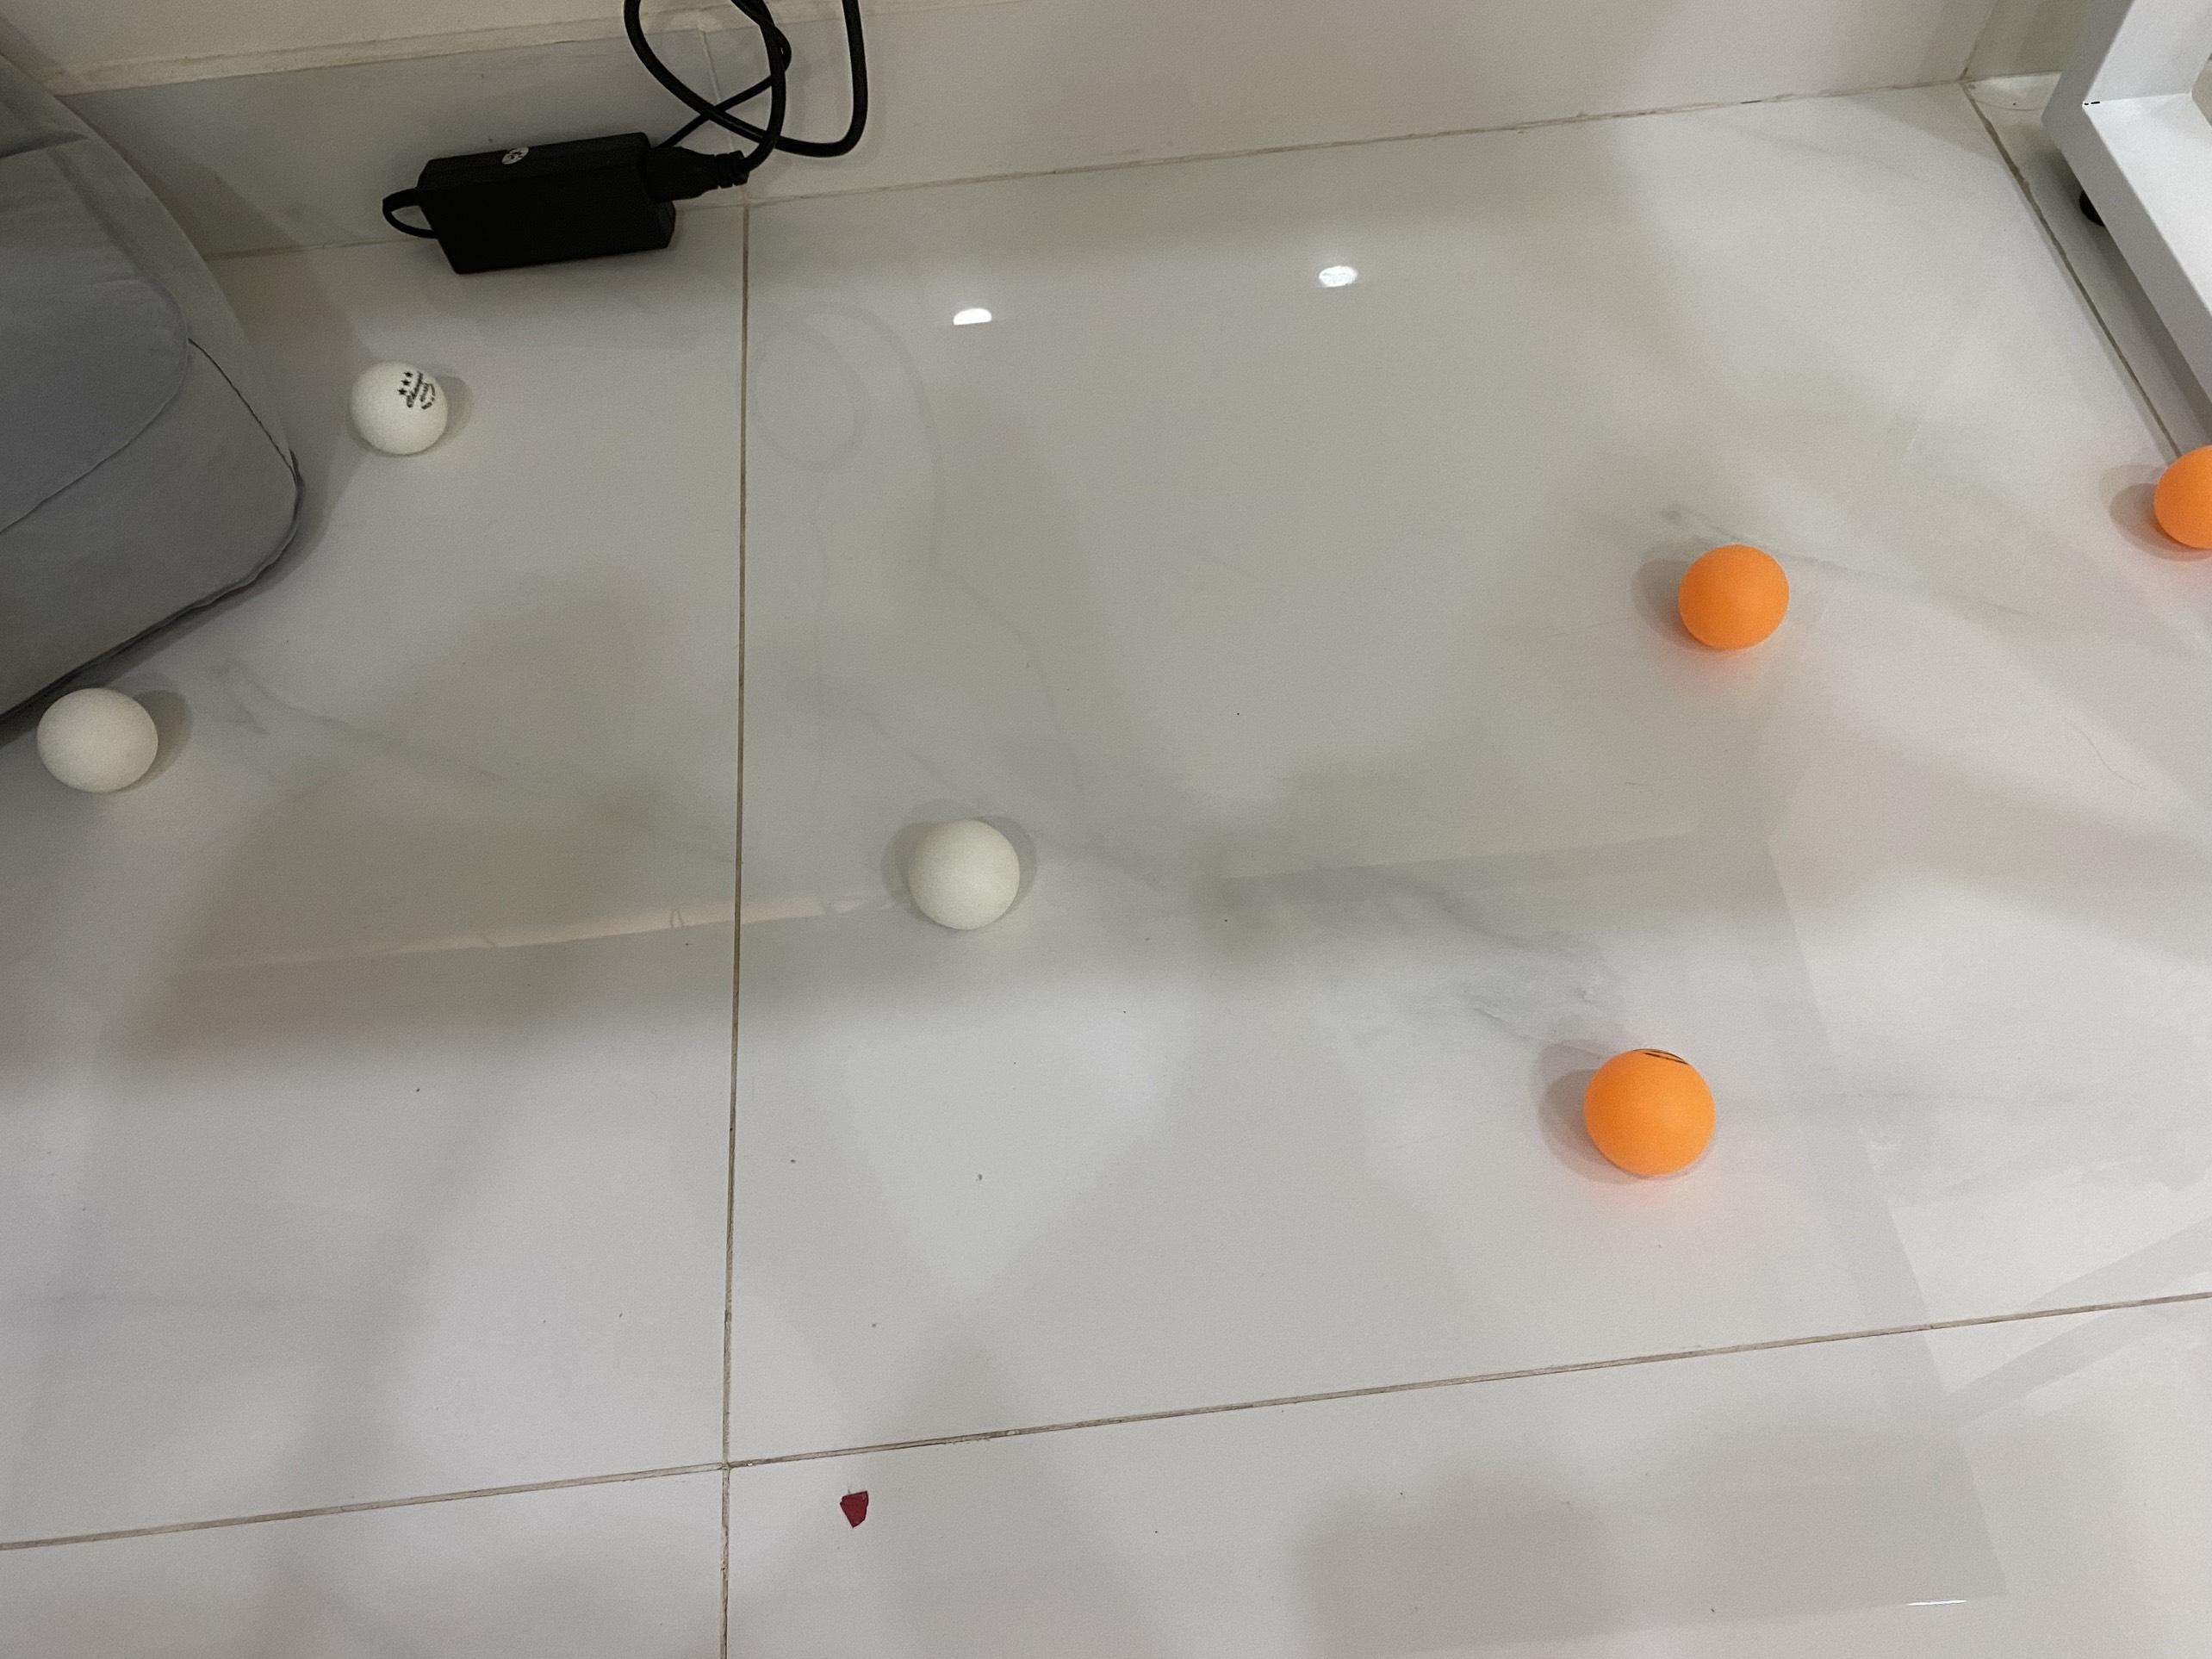oball: (1583, 1047, 1719, 1178), (1679, 542, 1792, 655), (2156, 439, 2212, 554)
